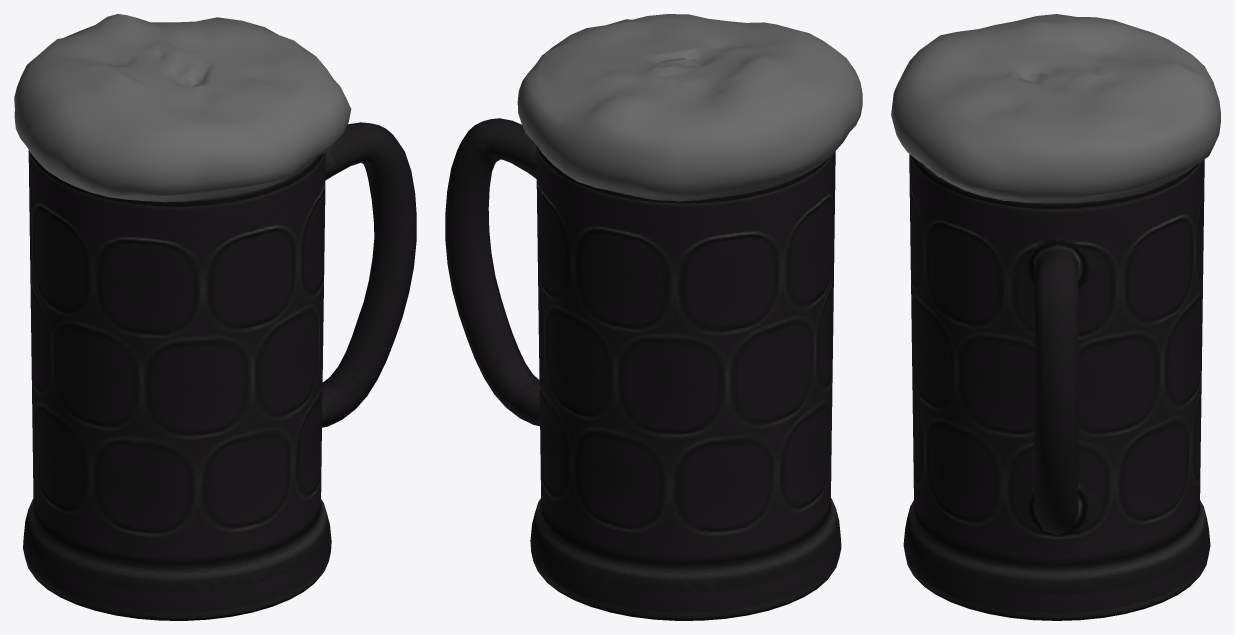
Rendered from beer_mug_normalized.fbx.
3 renders of one model, left to right at view 1: azimuth 30°, elevation 25°; view 2: azimuth 150°, elevation 25°; view 3: azimuth 270°, elevation 25°, orthographic.
Parts seen in each view (by area): view 1: node_id47, node_id45; view 2: node_id47, node_id45; view 3: node_id47, node_id45.
Part boxes in pixels (x1,y1,x2,y2): node_id47: (23, 122, 416, 620); node_id45: (14, 14, 351, 202); node_id47: (445, 118, 841, 620); node_id45: (517, 14, 862, 201); node_id47: (903, 154, 1210, 620); node_id45: (891, 14, 1220, 202).
Size of the model in its own units: 121 by 154 by 91.77.
